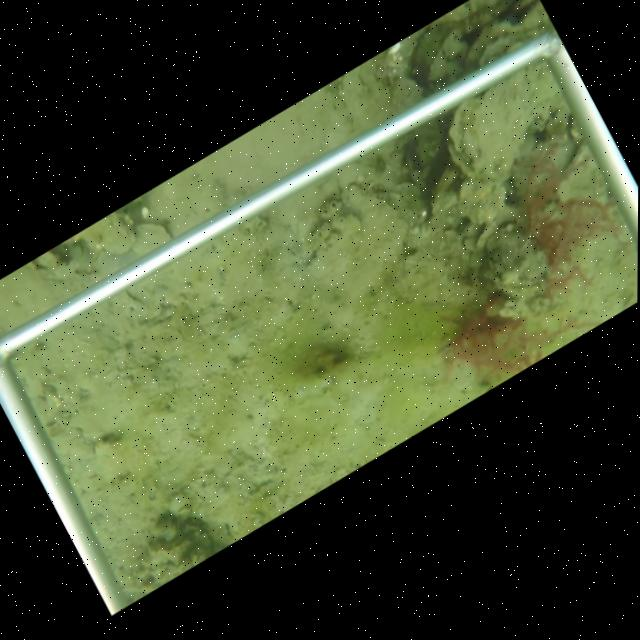Oyster-Closed: (444, 60, 561, 230)
